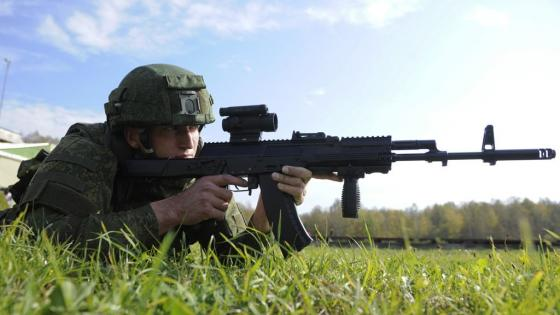Rifle: (128, 104, 557, 260)
